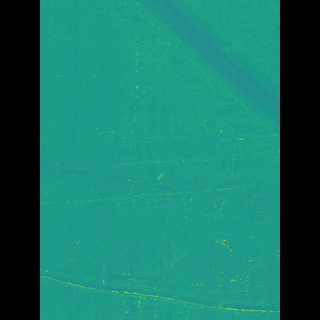Loch: (123, 0, 252, 179), (121, 46, 192, 320), (69, 261, 251, 319), (69, 155, 250, 212)
